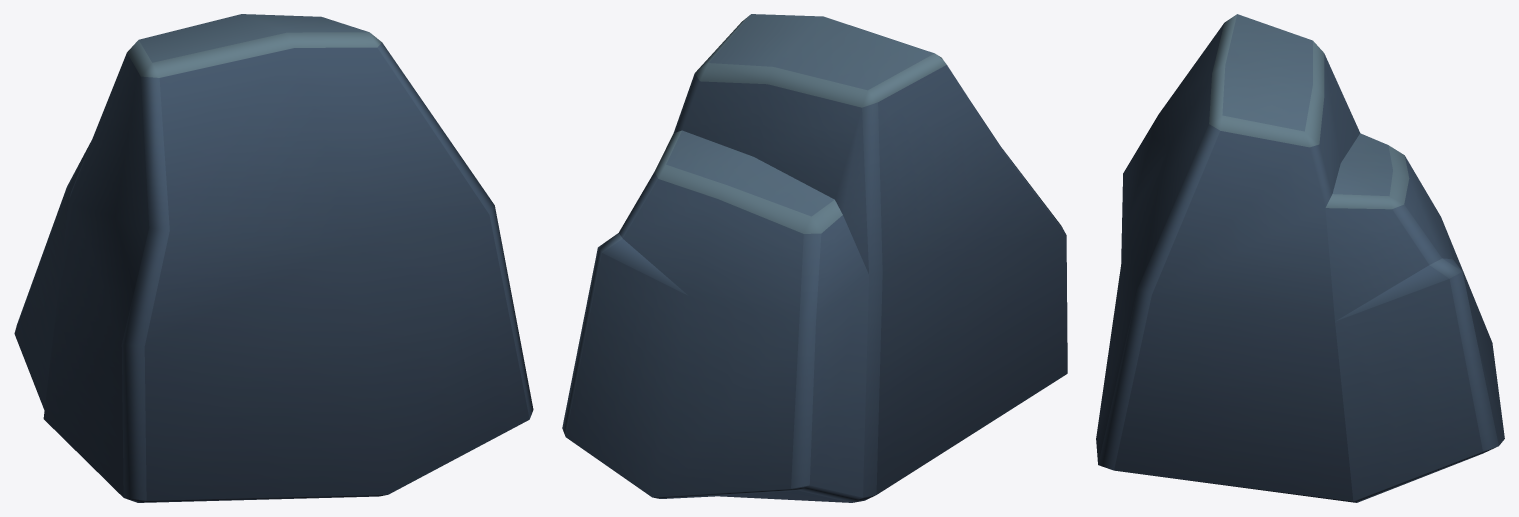
Rendered from rock_019.fbx.
3 views of the same model, side by side, from view 1: azimuth 30°, elevation 25°; view 2: azimuth 150°, elevation 25°; view 3: azimuth 270°, elevation 25° (orthographic). The views are drawn at different scales.
Parts seen in each view (by area): view 1: rock_019; view 2: rock_019; view 3: rock_019.
Boxes of the visible parts, x1,y1,x2,y2 form: rock_019: (14, 14, 533, 502); rock_019: (562, 14, 1067, 502); rock_019: (1096, 14, 1504, 502).
Size of the model in its own units: 243 by 272 by 248.
1 material, 1 textured.
